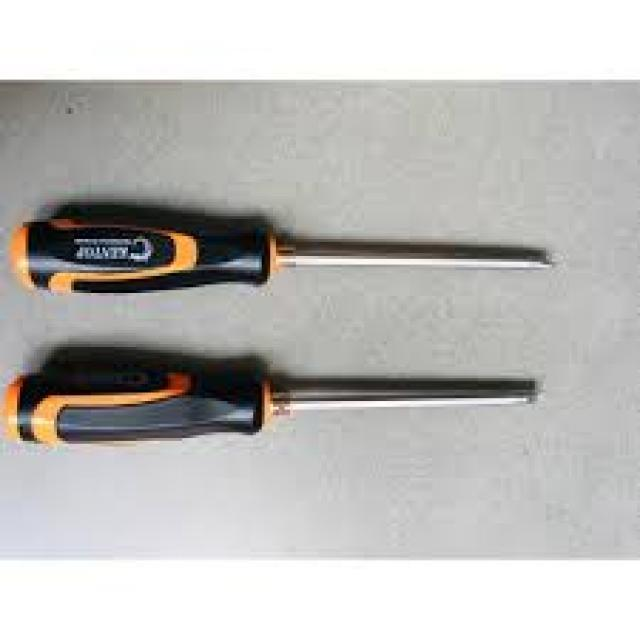screwdriver: (6, 210, 560, 302), (0, 362, 552, 452)
